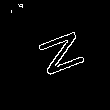N_W: (26, 27, 84, 83)
